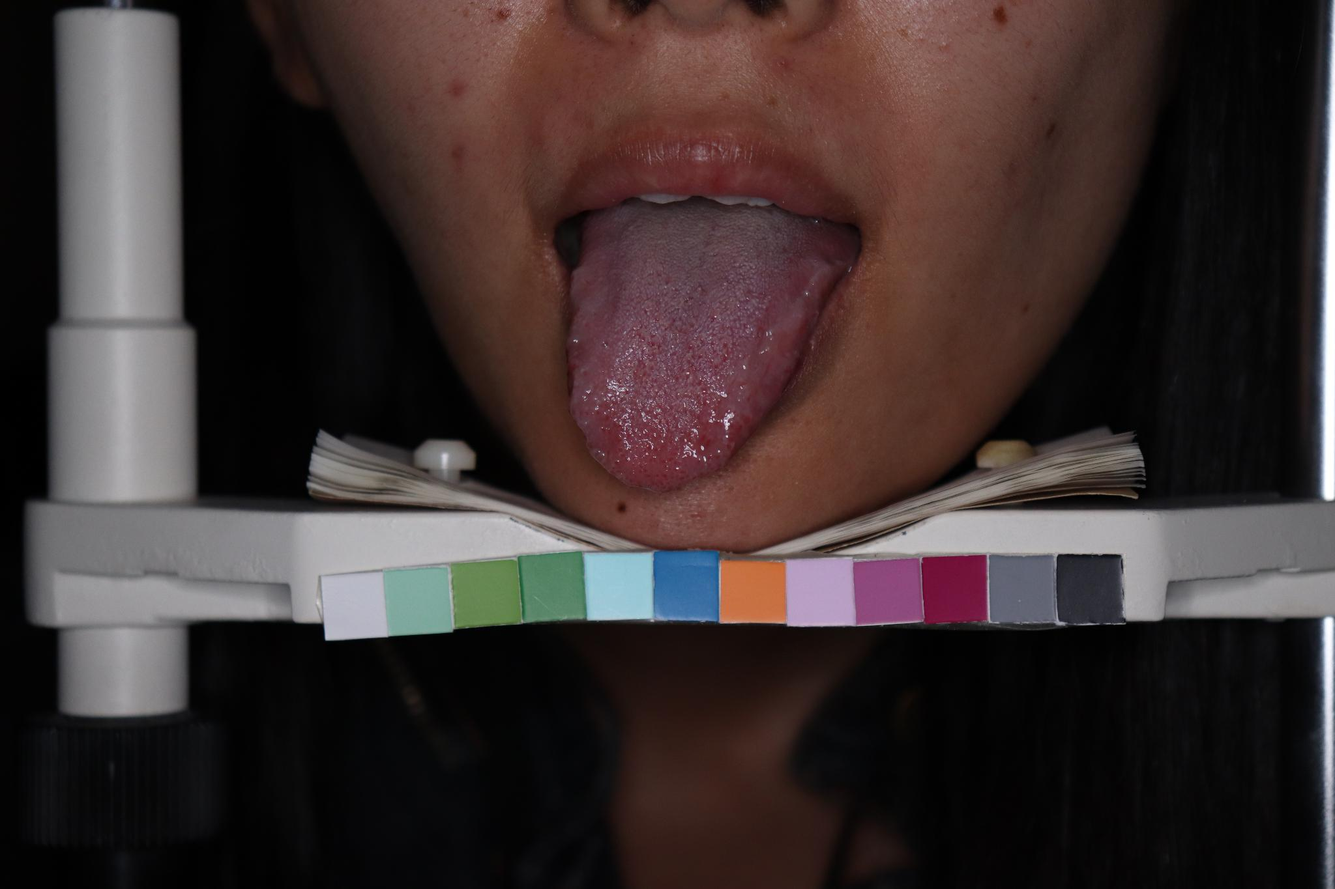baitaishe: (567, 202, 857, 490)
hongdianshe: (593, 407, 600, 415), (617, 445, 623, 454), (613, 459, 621, 465), (673, 459, 679, 465), (600, 425, 605, 432)
